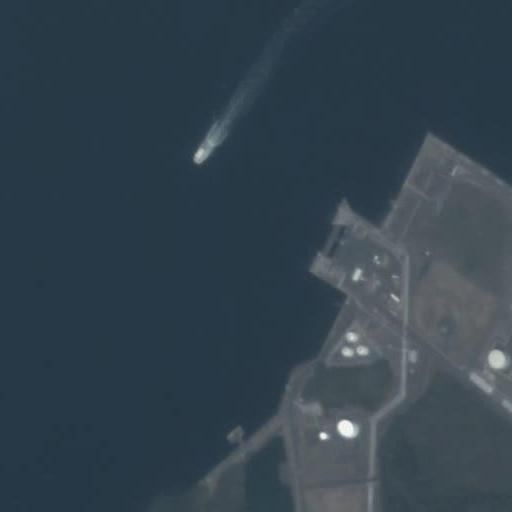person: (193, 147, 208, 165)
